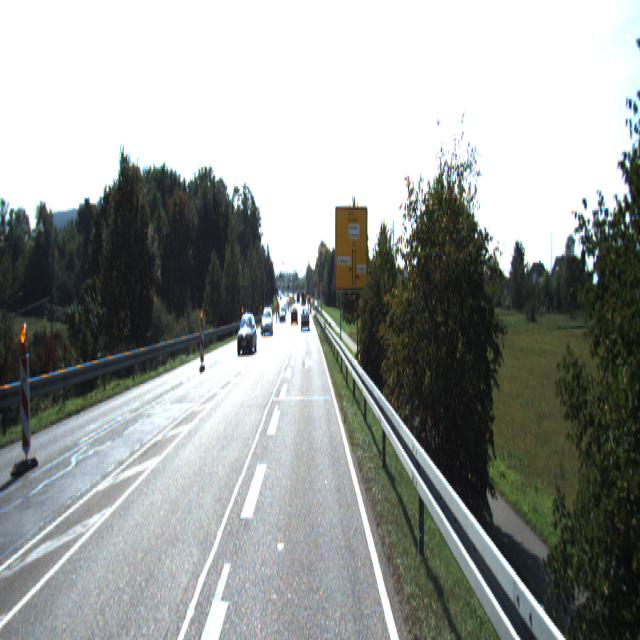Car: (237, 313, 257, 359), (261, 306, 273, 334), (302, 309, 310, 331)
